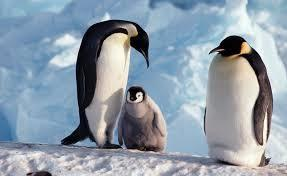emporer: (58, 19, 161, 153), (187, 33, 280, 173)
